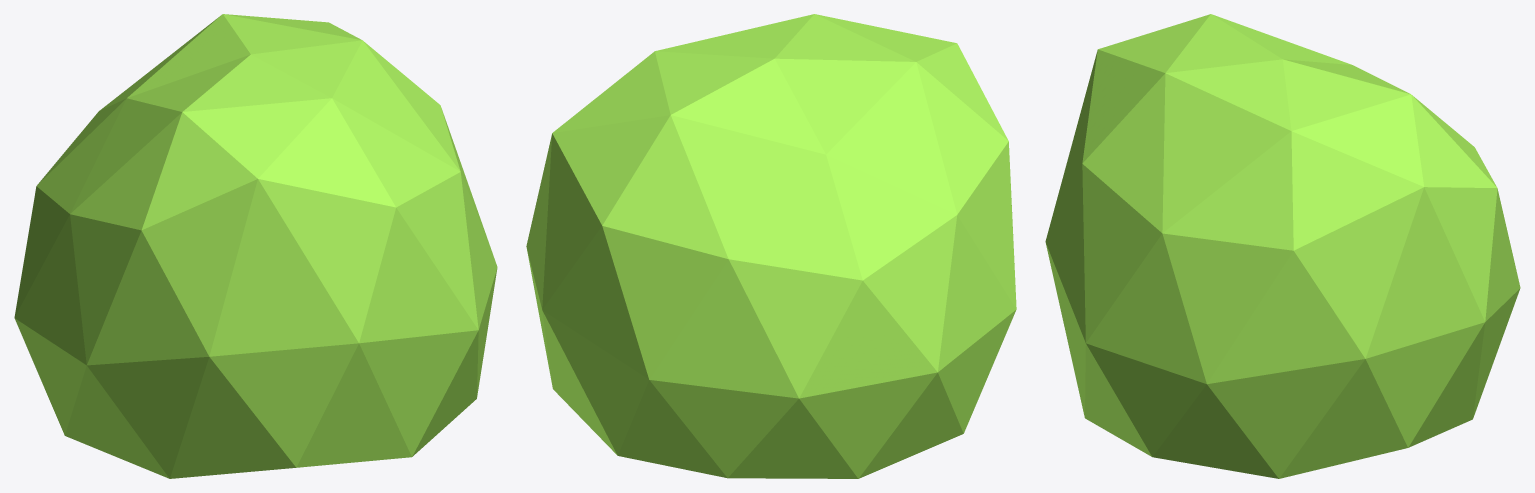
The model's file is SmallBush.fbx.
The picture shows the model from 3 angles, left to right: view 1: azimuth 30°, elevation 25°; view 2: azimuth 150°, elevation 25°; view 3: azimuth 270°, elevation 25°; orthographic projection. The views are drawn at different scales.
Parts seen in each view (by area): view 1: Bush2; view 2: Bush2; view 3: Bush2.
Boxes of the visible parts, x1,y1,x2,y2 form: Bush2: [14, 14, 497, 478]; Bush2: [526, 14, 1016, 478]; Bush2: [1045, 14, 1520, 478].
Size of the model in its own units: 0.9437 by 0.7931 by 0.9754.
